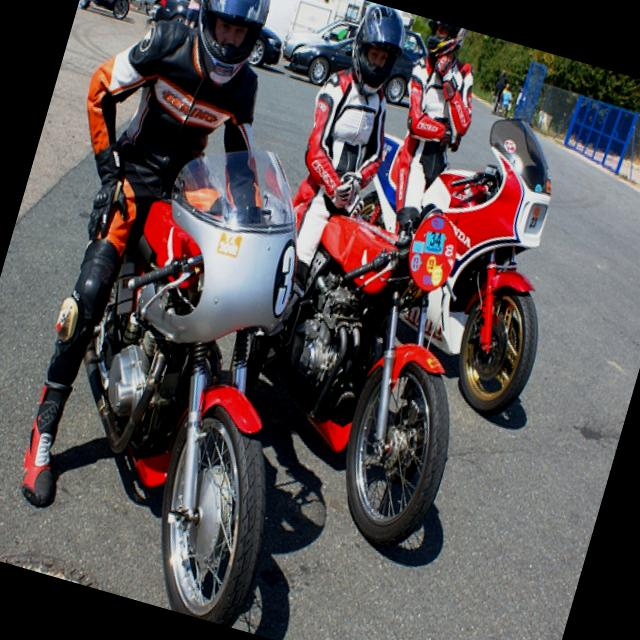Vehicle: (44, 113, 370, 552), (230, 172, 514, 557), (362, 95, 596, 428), (284, 2, 432, 112), (280, 7, 359, 76), (248, 25, 283, 71), (76, 0, 139, 21)
